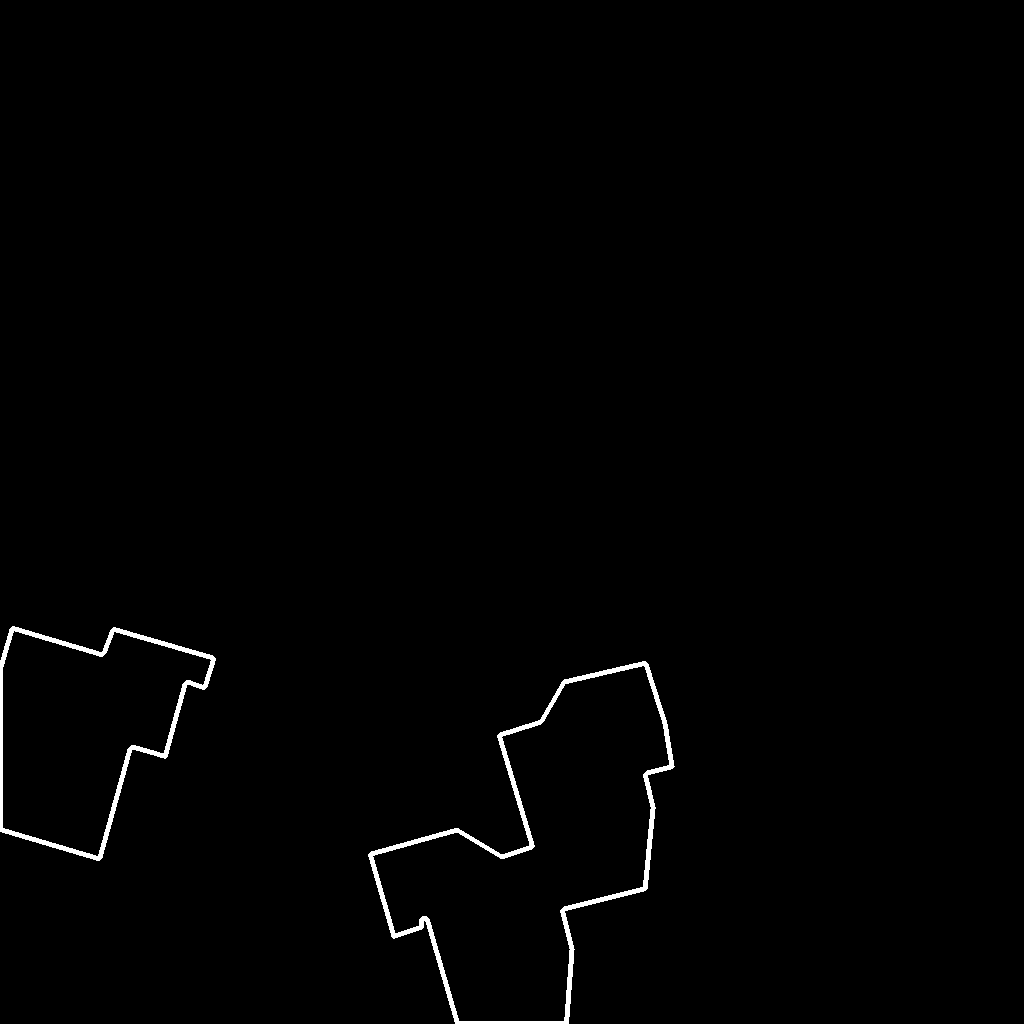building: (370, 663, 673, 1024), (0, 628, 215, 860)
